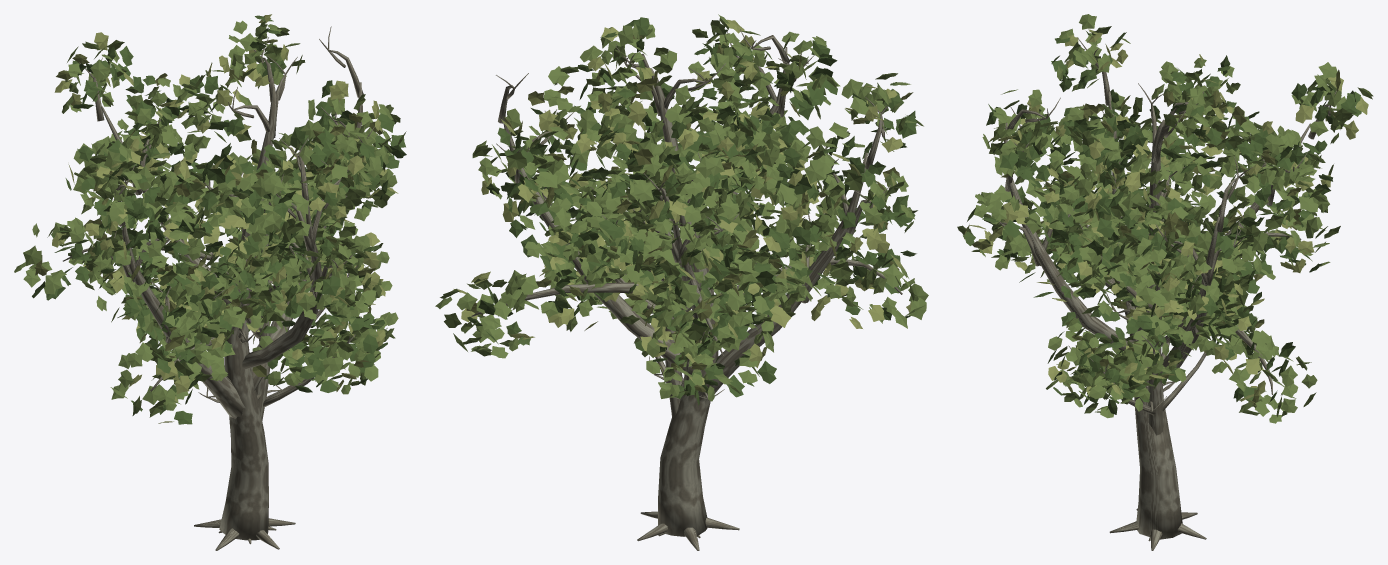
File: trees-v1.glb
3 renders of one model, left to right at view 1: azimuth 30°, elevation 25°; view 2: azimuth 150°, elevation 25°; view 3: azimuth 270°, elevation 25°, orthographic. The views are drawn at different scales.
Parts seen in each view (by area): view 1: Tree_Plane_Tree_foliage_middle_olive, Tree_Plane_Tree_foliage_shaded_olive, Tree_Plane_Tree_plane_mottled_bark, Tree_Plane_Tree_foliage_young_olive, Tree_Hornbeam_Tree_foliage_middle_olive, Tree_Hornbeam_Tree_foliage_shaded_olive, Tree_Hornbeam_Tree_foliage_young_olive, Tree_Hornbeam_Tree_hornbeam_grey_bark; view 2: Tree_Plane_Tree_foliage_middle_olive, Tree_Plane_Tree_foliage_shaded_olive, Tree_Plane_Tree_plane_mottled_bark, Tree_Plane_Tree_foliage_young_olive, Tree_Hornbeam_Tree_foliage_middle_olive, Tree_Hornbeam_Tree_foliage_shaded_olive, Tree_Hornbeam_Tree_foliage_young_olive, Tree_Hornbeam_Tree_hornbeam_grey_bark; view 3: Tree_Plane_Tree_foliage_middle_olive, Tree_Plane_Tree_foliage_shaded_olive, Tree_Plane_Tree_plane_mottled_bark, Tree_Plane_Tree_foliage_young_olive, Tree_Hornbeam_Tree_foliage_middle_olive, Tree_Hornbeam_Tree_foliage_shaded_olive, Tree_Hornbeam_Tree_foliage_young_olive, Tree_Hornbeam_Tree_hornbeam_grey_bark.
Part boxes in pixels (x1,y1,x2,y2): Tree_Plane_Tree_foliage_middle_olive: (14,20,406,417); Tree_Plane_Tree_foliage_shaded_olive: (32,15,406,424); Tree_Plane_Tree_plane_mottled_bark: (63,26,374,550); Tree_Plane_Tree_foliage_young_olive: (34,14,398,423); Tree_Hornbeam_Tree_foliage_middle_olive: (142,149,398,394); Tree_Hornbeam_Tree_foliage_shaded_olive: (136,156,387,392); Tree_Hornbeam_Tree_foliage_young_olive: (136,161,385,391); Tree_Hornbeam_Tree_hornbeam_grey_bark: (198,172,367,544); Tree_Plane_Tree_foliage_middle_olive: (435,14,928,394); Tree_Plane_Tree_foliage_shaded_olive: (467,17,916,397); Tree_Plane_Tree_plane_mottled_bark: (471,29,902,550); Tree_Plane_Tree_foliage_young_olive: (453,19,918,370); Tree_Hornbeam_Tree_foliage_middle_olive: (544,131,787,401); Tree_Hornbeam_Tree_foliage_shaded_olive: (556,131,774,405); Tree_Hornbeam_Tree_foliage_young_olive: (544,149,779,392); Tree_Hornbeam_Tree_hornbeam_grey_bark: (576,153,745,538); Tree_Plane_Tree_foliage_middle_olive: (957,14,1373,423); Tree_Plane_Tree_foliage_shaded_olive: (963,31,1361,402); Tree_Plane_Tree_plane_mottled_bark: (999,37,1336,550); Tree_Plane_Tree_foliage_young_olive: (963,29,1368,406); Tree_Hornbeam_Tree_foliage_middle_olive: (1046,194,1268,418); Tree_Hornbeam_Tree_foliage_shaded_olive: (1047,202,1266,414); Tree_Hornbeam_Tree_foliage_young_olive: (1048,192,1264,396); Tree_Hornbeam_Tree_hornbeam_grey_bark: (1068,219,1243,541).
Size of the model in its own units: 4.94 by 6.08 by 4.82.
Materials: 5 (2 with a texture image).
